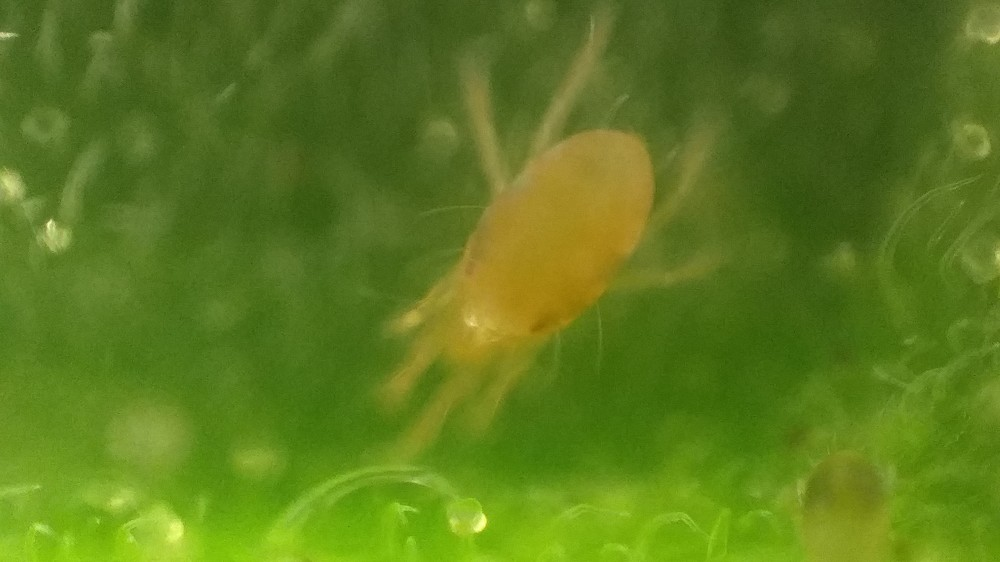Aracnido Rojo: (359, 36, 746, 459)
